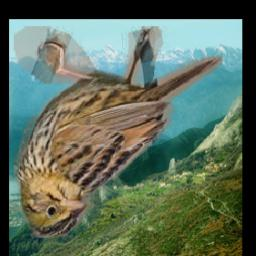Sparrow: (15, 26, 223, 238)
